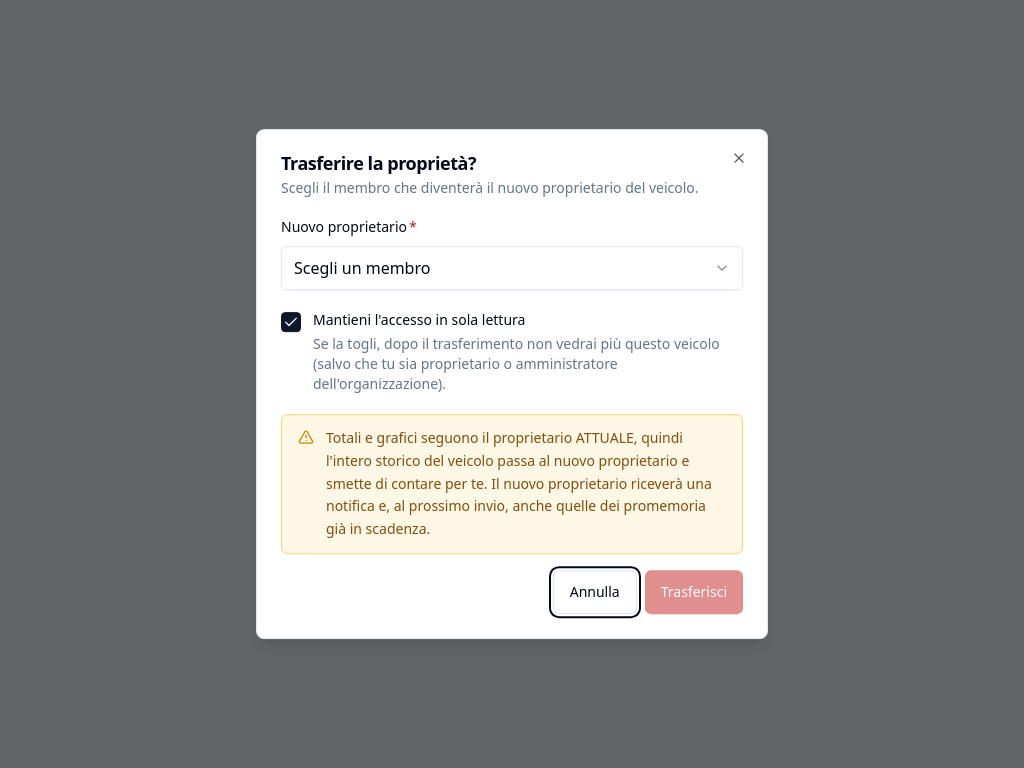
Test: TransferVehicleDialog › notifica della perdita d'accesso › un errore non avvisa la pagina
Click the dropdown named "Nuovo proprietario" at (362, 268), box left=281, top=246, right=743, bottom=290
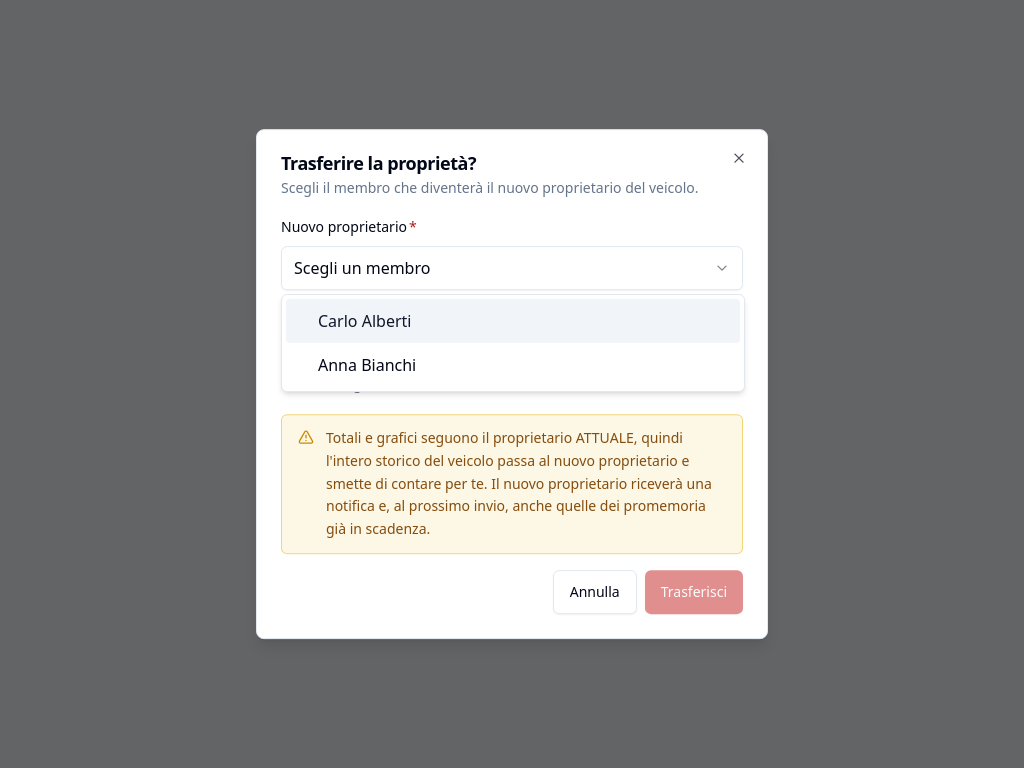
Click the option "Carlo Alberti" at (338, 321), box left=286, top=299, right=740, bottom=343
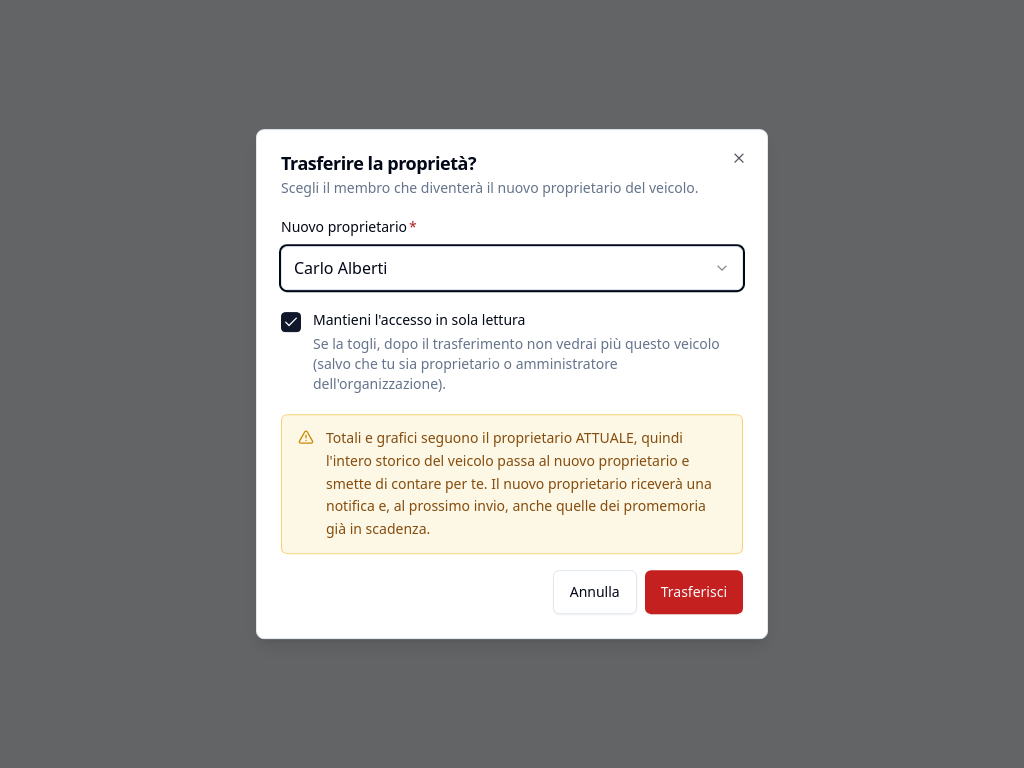
Click the checkbox labelled "Mantieni l'accesso" at (291, 322), box left=281, top=312, right=301, bottom=332
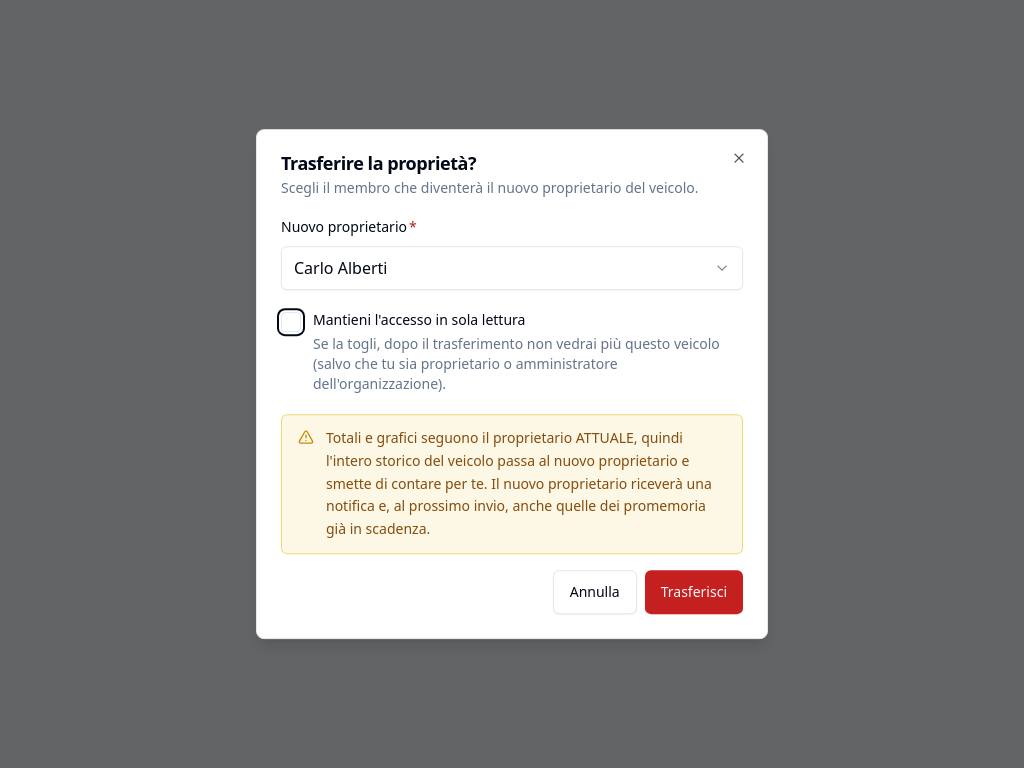
Click the button "Trasferisci" at (694, 592), box left=645, top=570, right=743, bottom=614
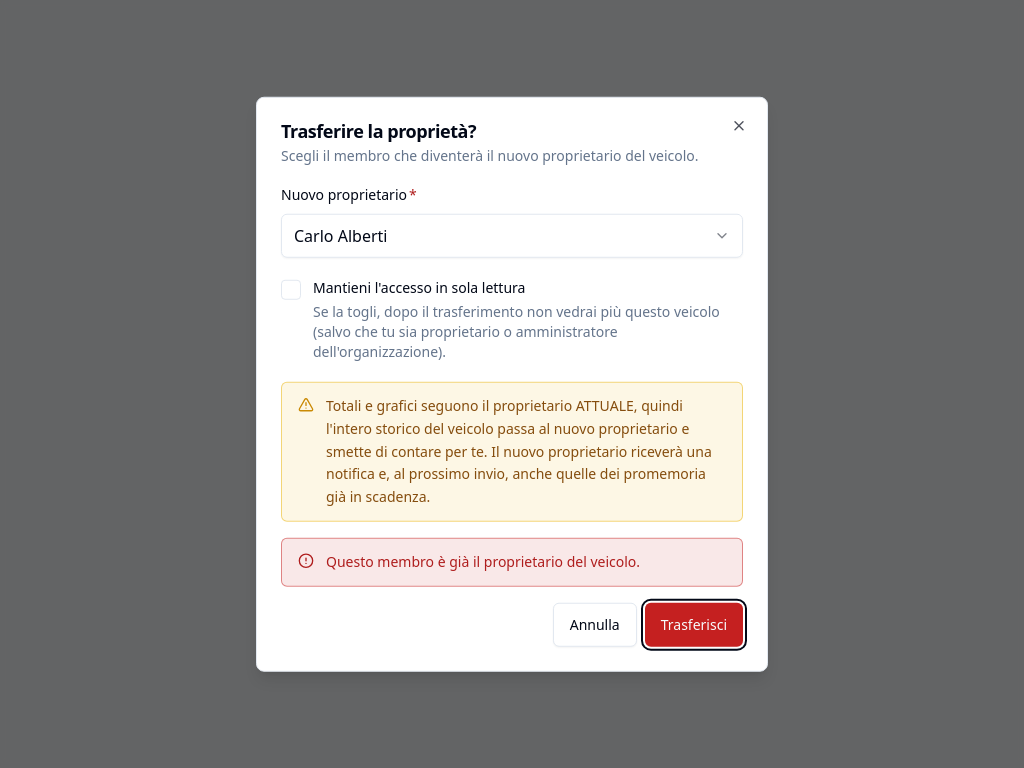
Now the message "Questo membro è già il proprietario del veicolo." is shown, box left=281, top=538, right=743, bottom=586
